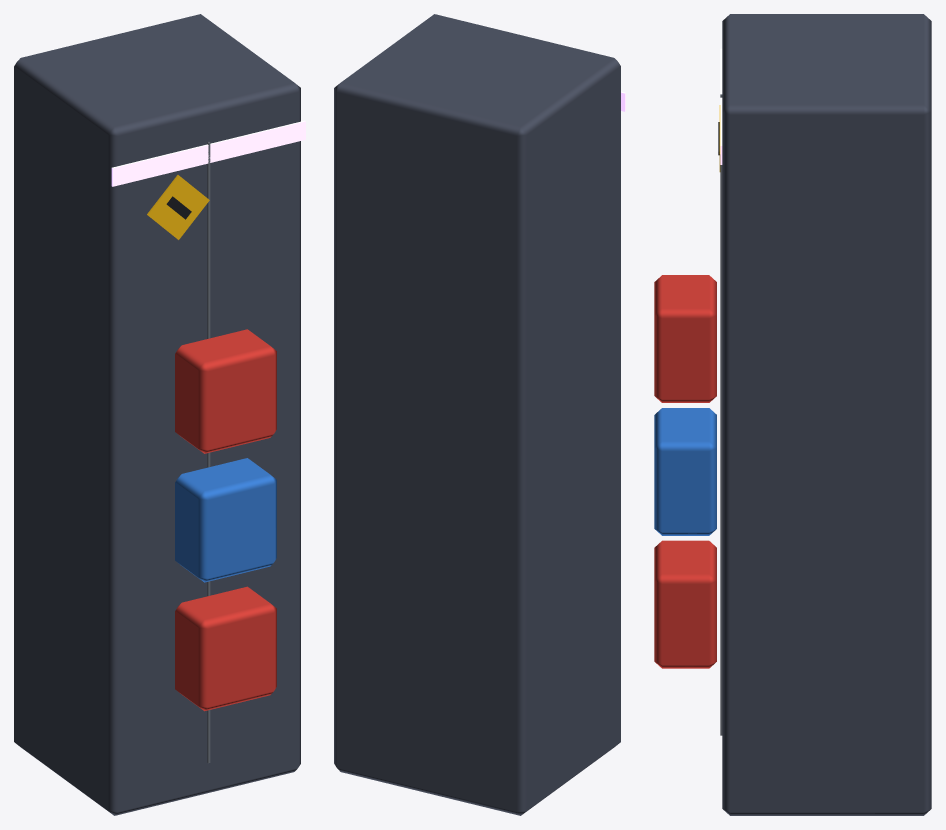
Rendered from station_intake_ausstattung_1_2.glb.
3 views of the same model, side by side, from view 1: azimuth 30°, elevation 25°; view 2: azimuth 150°, elevation 25°; view 3: azimuth 270°, elevation 25° (orthographic). The views are drawn at different scales.
Parts seen in each view (by area): view 1: station_intake_ausstattung_1_2; view 2: station_intake_ausstattung_1_2; view 3: station_intake_ausstattung_1_2.
Boxes of the visible parts, x1,y1,x2,y2 form: station_intake_ausstattung_1_2: [14, 14, 305, 815]; station_intake_ausstattung_1_2: [334, 14, 625, 815]; station_intake_ausstattung_1_2: [654, 14, 931, 815].
Bounding box in the file's own units: 0.44 × 1.5 × 0.53.
